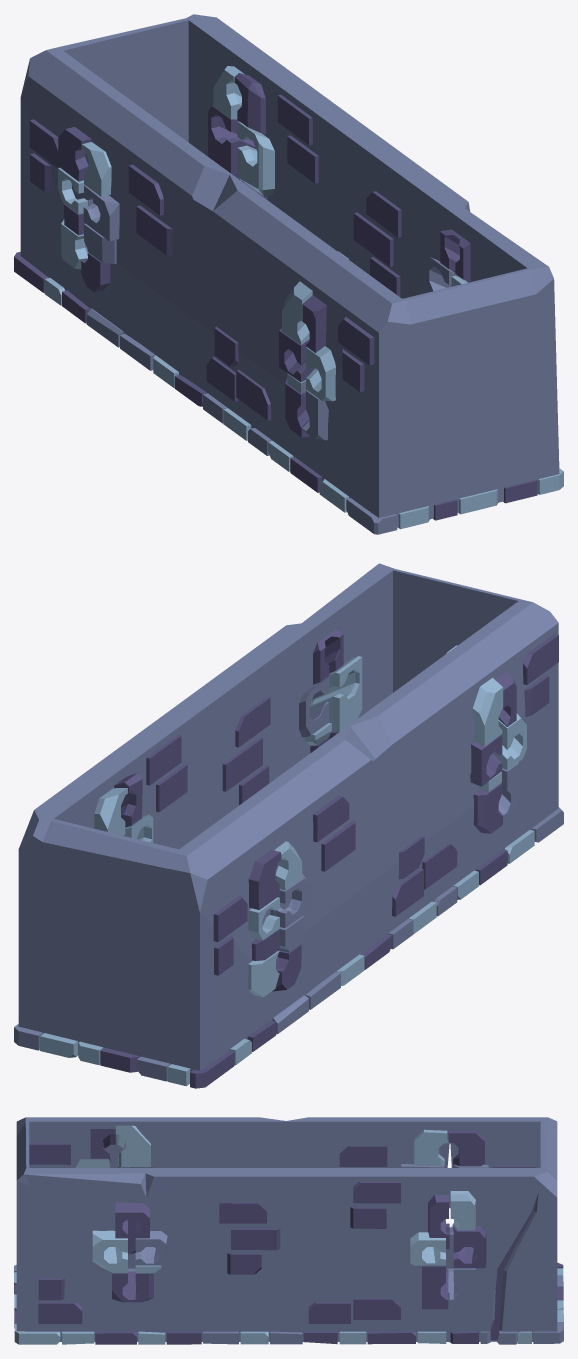
The model's file is Wall_Gate_01_Top_02.fbx.
The picture shows the model from 3 angles, top to bottom: view 1: azimuth 30°, elevation 25°; view 2: azimuth 150°, elevation 25°; view 3: azimuth 270°, elevation 25°; orthographic projection. The views are drawn at different scales.
Parts seen in each view (by area): view 1: Wall_Gate_01_Top_02; view 2: Wall_Gate_01_Top_02; view 3: Wall_Gate_01_Top_02.
Part boxes in pixels (<box>): Wall_Gate_01_Top_02: <box>14,14,563,534</box>; Wall_Gate_01_Top_02: <box>14,563,563,1088</box>; Wall_Gate_01_Top_02: <box>14,1117,563,1344</box>.
Bounding box in the file's own units: 521 × 542 × 1626.
